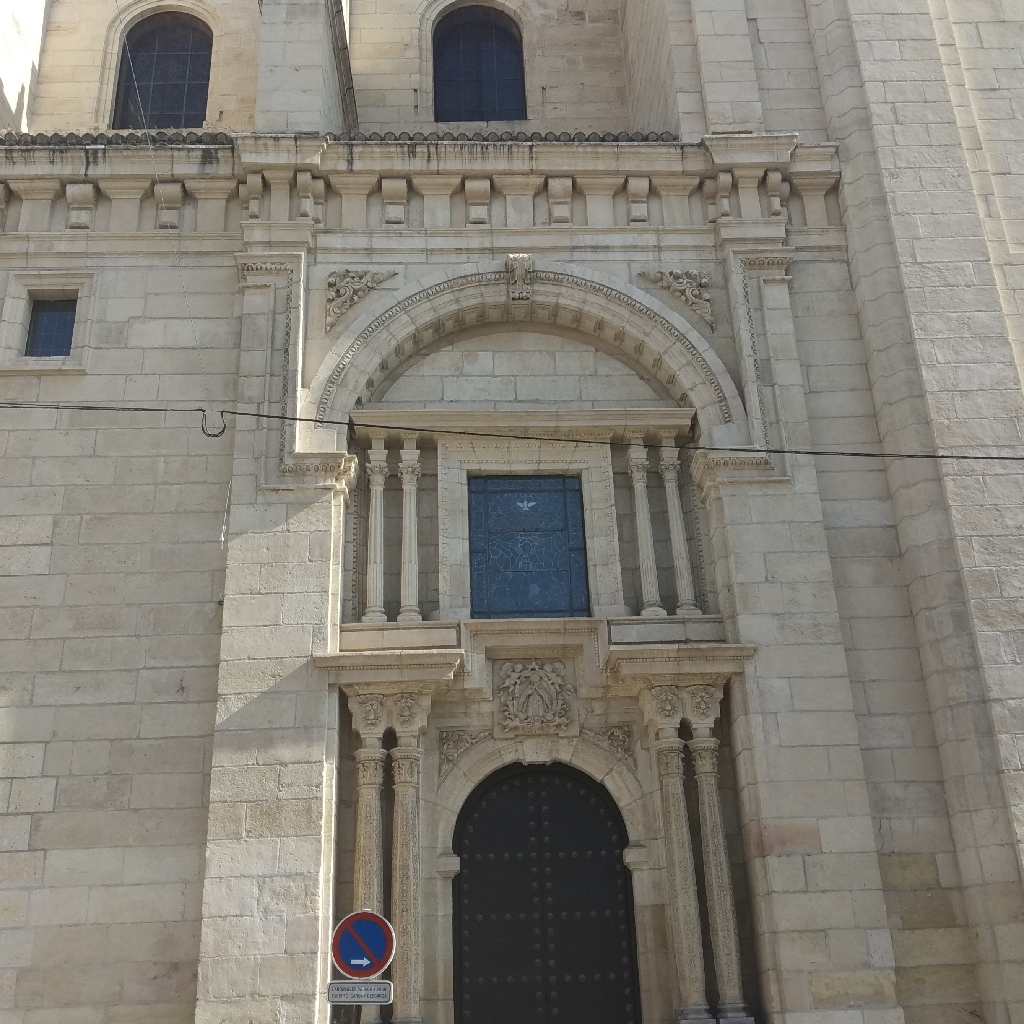arco-medio-punto: (319, 267, 732, 494), (443, 751, 640, 882), (424, 1, 533, 46), (115, 8, 219, 54)
vano-adintelado: (430, 432, 632, 622)
